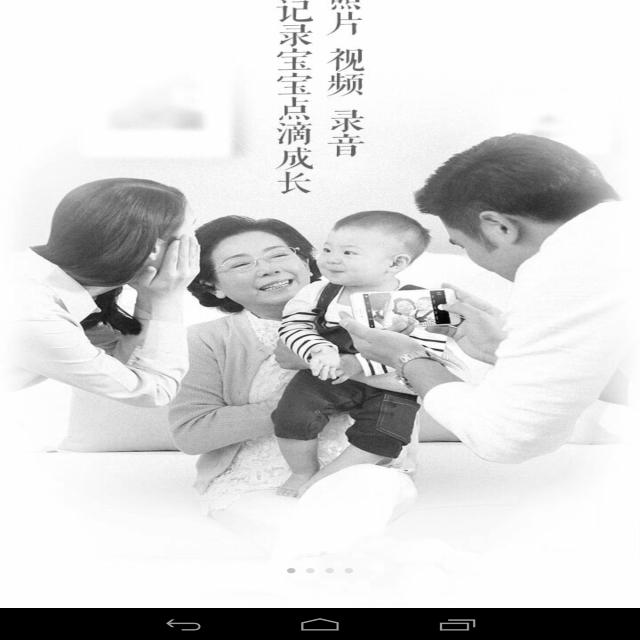ImageView: (38, 192, 607, 492)
TextView: (273, 4, 369, 182)
